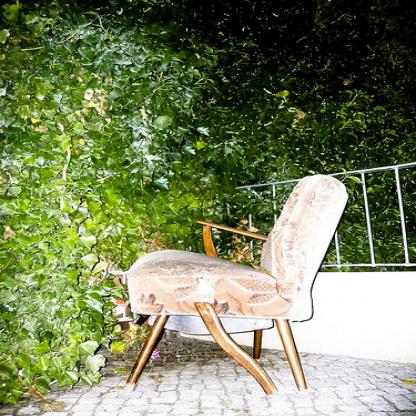chair: (127, 173, 348, 394)
